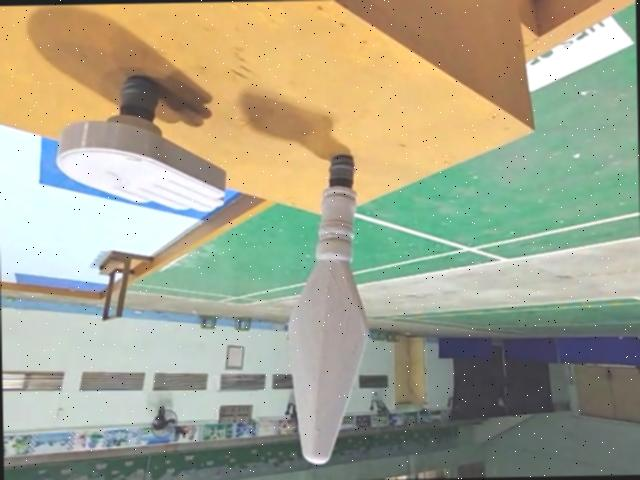Hand: (54, 74, 231, 218)
Sph: (284, 152, 381, 465)
